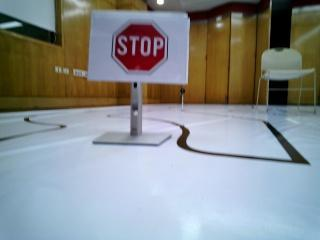stop: (103, 19, 181, 84)
